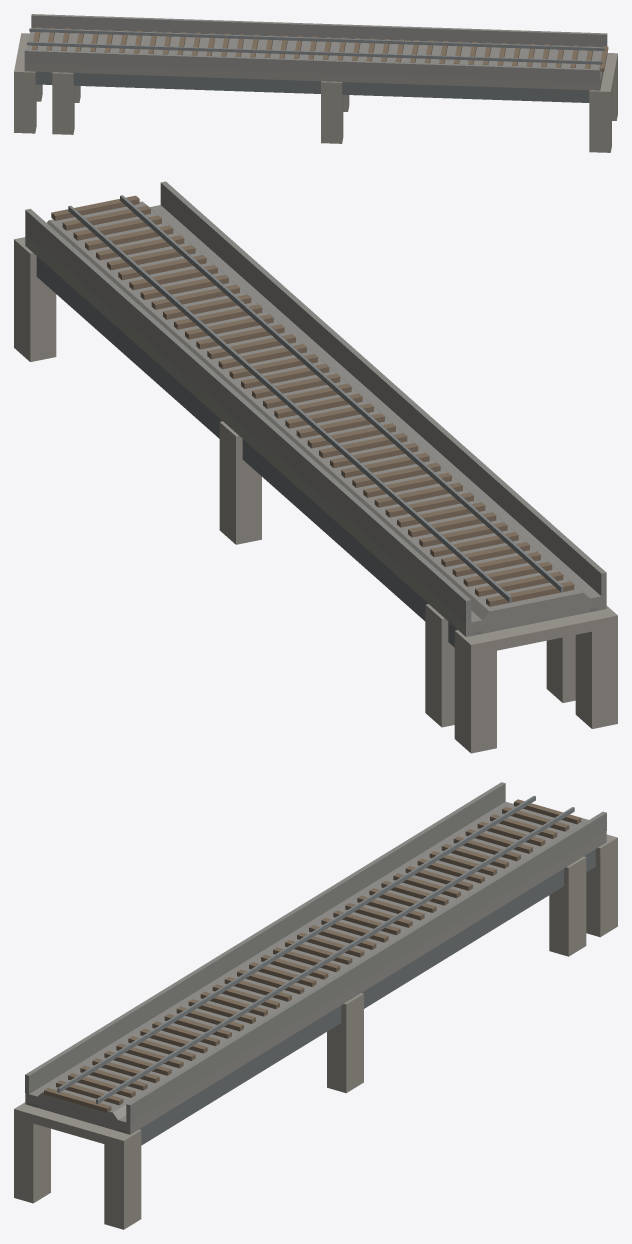
File: rail_01204.glb
3 renders of one model, top to bottom at view 1: azimuth 30°, elevation 25°; view 2: azimuth 150°, elevation 25°; view 3: azimuth 270°, elevation 25°, orthographic. The views are drawn at different scales.
Parts seen in each view (by area): view 1: BridgeParapets, BridgePiers, BridgeGirders, Ballast, BridgeDeck, Rails, Sleepers; view 2: Sleepers, BridgeParapets, BridgePiers, Ballast, BridgeDeck, BridgeGirders, Rails; view 3: BridgeParapets, Sleepers, BridgePiers, Ballast, BridgeDeck, BridgeGirders, Rails.
Part boxes in pixels (bbox=[...]): BridgeParapets: bbox=[24, 14, 607, 82]; BridgePiers: bbox=[14, 33, 617, 152]; BridgeGirders: bbox=[35, 71, 600, 102]; Ballast: bbox=[26, 32, 602, 78]; BridgeDeck: bbox=[24, 28, 603, 90]; Rails: bbox=[27, 28, 604, 64]; Sleepers: bbox=[31, 27, 608, 71]; Sleepers: bbox=[51, 195, 574, 606]; BridgeParapets: bbox=[25, 181, 606, 623]; BridgePiers: bbox=[14, 237, 617, 753]; Ballast: bbox=[47, 201, 589, 619]; BridgeDeck: bbox=[25, 205, 606, 636]; BridgeGirders: bbox=[36, 256, 600, 647]; Rails: bbox=[68, 195, 563, 602]; BridgeParapets: bbox=[25, 782, 606, 1123]; Sleepers: bbox=[44, 799, 581, 1112]; BridgePiers: bbox=[14, 834, 617, 1229]; Ballast: bbox=[37, 803, 588, 1119]; BridgeDeck: bbox=[25, 801, 606, 1134]; BridgeGirders: bbox=[27, 849, 595, 1145]; Rails: bbox=[57, 796, 574, 1103].
Bounding box in the file's own units: 24.27 × 4 × 18.48.
